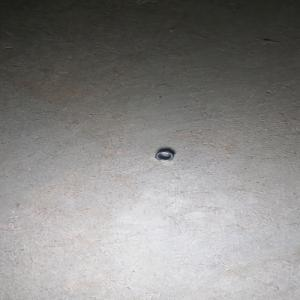Nut: (154, 150, 175, 162)
